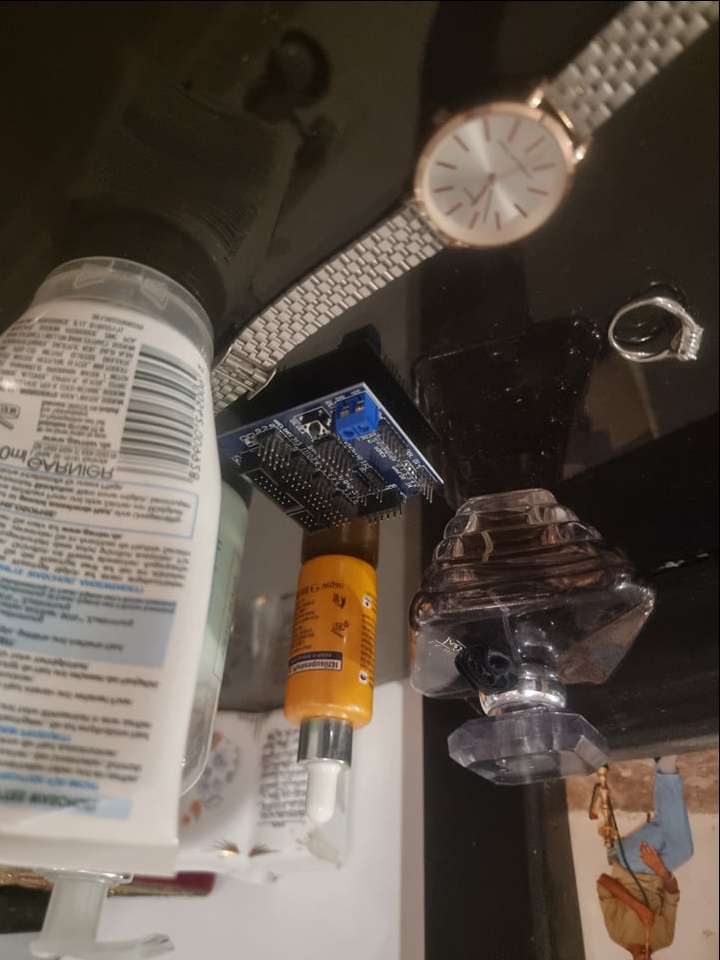SENSOR: (213, 381, 446, 542)
